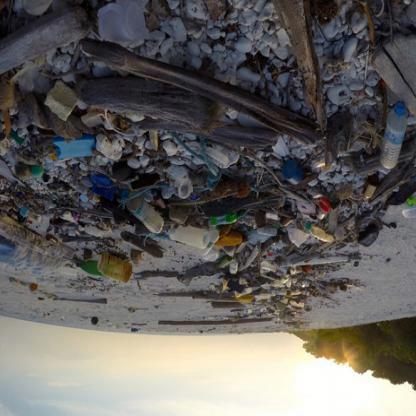Plastic: (377, 101, 409, 172), (125, 202, 166, 236), (165, 224, 210, 249)
